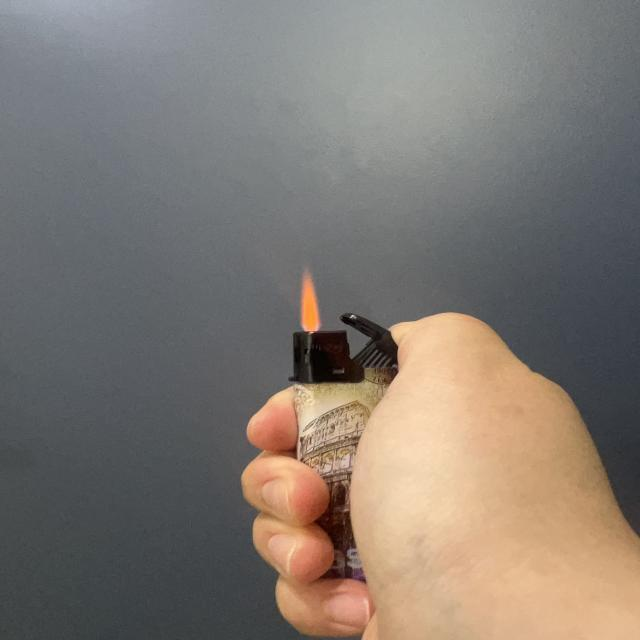fire: (294, 262, 322, 334)
